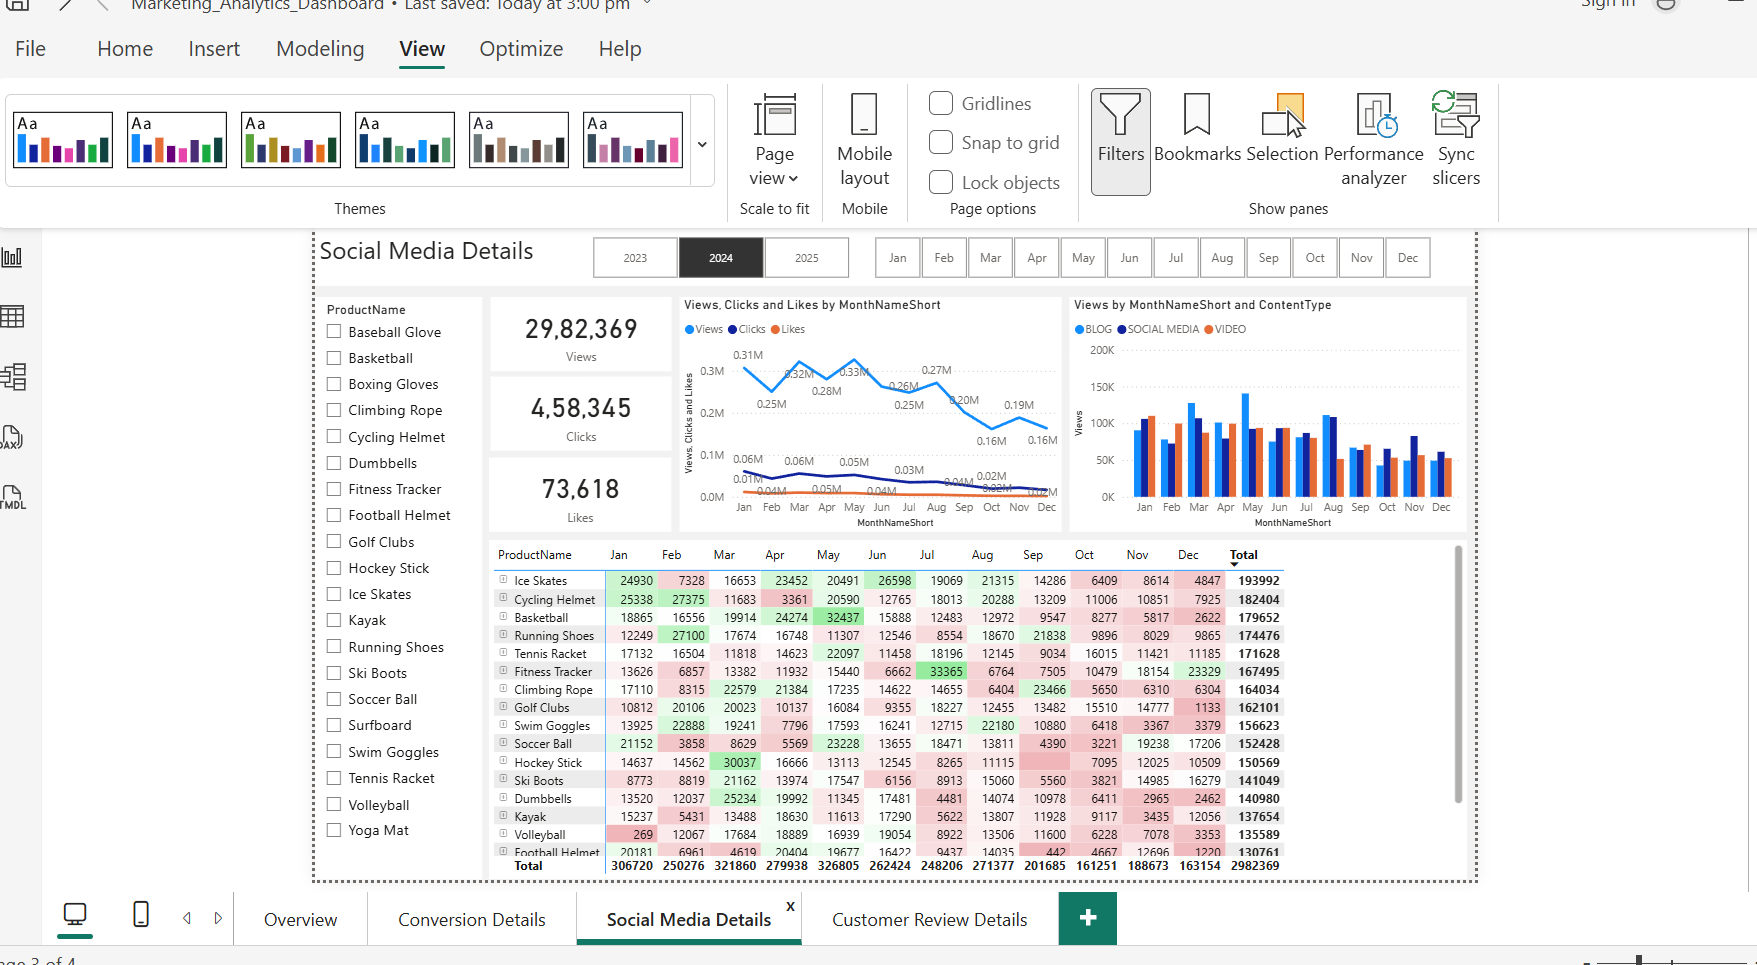

The dashboard page shown, as its layout file describes it:
{"tool":"powerbi","page":{"name":"Social Media Details","canvas":[1280,720],"ordinal":2},"visuals":[{"type":"textbox","box":[0,0,1280,64.2],"z":0},{"type":"slicer","fields":{"Values":["dim_products.ProductName"]},"box":[0,76.1,184.4,643.6],"z":1000},{"type":"card","fields":{"Values":["_Calculations.Views"]},"box":[193.9,76.1,199.9,82.1],"z":2000},{"type":"card","fields":{"Values":["_Calculations.Clicks"]},"box":[193.9,164.8,199.9,82.1],"z":3000},{"type":"card","fields":{"Values":["_Calculations.Likes"]},"box":[192.7,253.4,201,82.1],"z":4000},{"type":"slicer","fields":{"Values":["Calendar.Year"]},"box":[281.9,3.6,331.9,58.3],"z":5000},{"type":"slicer","fields":{"Values":["Calendar.MonthNameShort"]},"box":[592.4,3.6,662.6,58.3],"z":6000},{"type":"lineChart","fields":{"Category":["Calendar.MonthNameShort"],"Y":["_Calculations.Views","_Calculations.Clicks","_Calculations.Likes"]},"box":[402.1,76.1,422.3,259.3],"z":7000},{"type":"clusteredColumnChart","fields":{"Y":["_Calculations.Views"],"Category":["Calendar.MonthNameShort"],"Series":["fact_engagement_data.ContentType"]},"box":[833.9,76.1,439,259.3],"z":8000},{"type":"pivotTable","fields":{"Rows":["dim_products.ProductName","fact_engagement_data.ContentType"],"Columns":["Calendar.MonthNameShort"],"Values":["Sum(fact_engagement_data.Views)"]},"box":[192.7,345,1080.1,373.5],"z":9000}]}

Visuals, with their boxes on the page's 1280x720 design canvas (x1, y1, x2, y2). These are canvas units, not pixel positions in the 1757x965 screenshot, which may show the page scaled, cropped or inside an application window:
textbox: left=0, top=0, right=1280, bottom=64
slicer - dim_products.ProductName: left=0, top=76, right=184, bottom=720
card - _Calculations.Views: left=194, top=76, right=394, bottom=158
card - _Calculations.Clicks: left=194, top=165, right=394, bottom=247
card - _Calculations.Likes: left=193, top=253, right=394, bottom=336
slicer - Calendar.Year: left=282, top=4, right=614, bottom=62
slicer - Calendar.MonthNameShort: left=592, top=4, right=1255, bottom=62
lineChart - Calendar.MonthNameShort x _Calculations.Views: left=402, top=76, right=824, bottom=335
clusteredColumnChart - _Calculations.Views x Calendar.MonthNameShort: left=834, top=76, right=1273, bottom=335
pivotTable - dim_products.ProductName x fact_engagement_data.ContentType: left=193, top=345, right=1273, bottom=718
